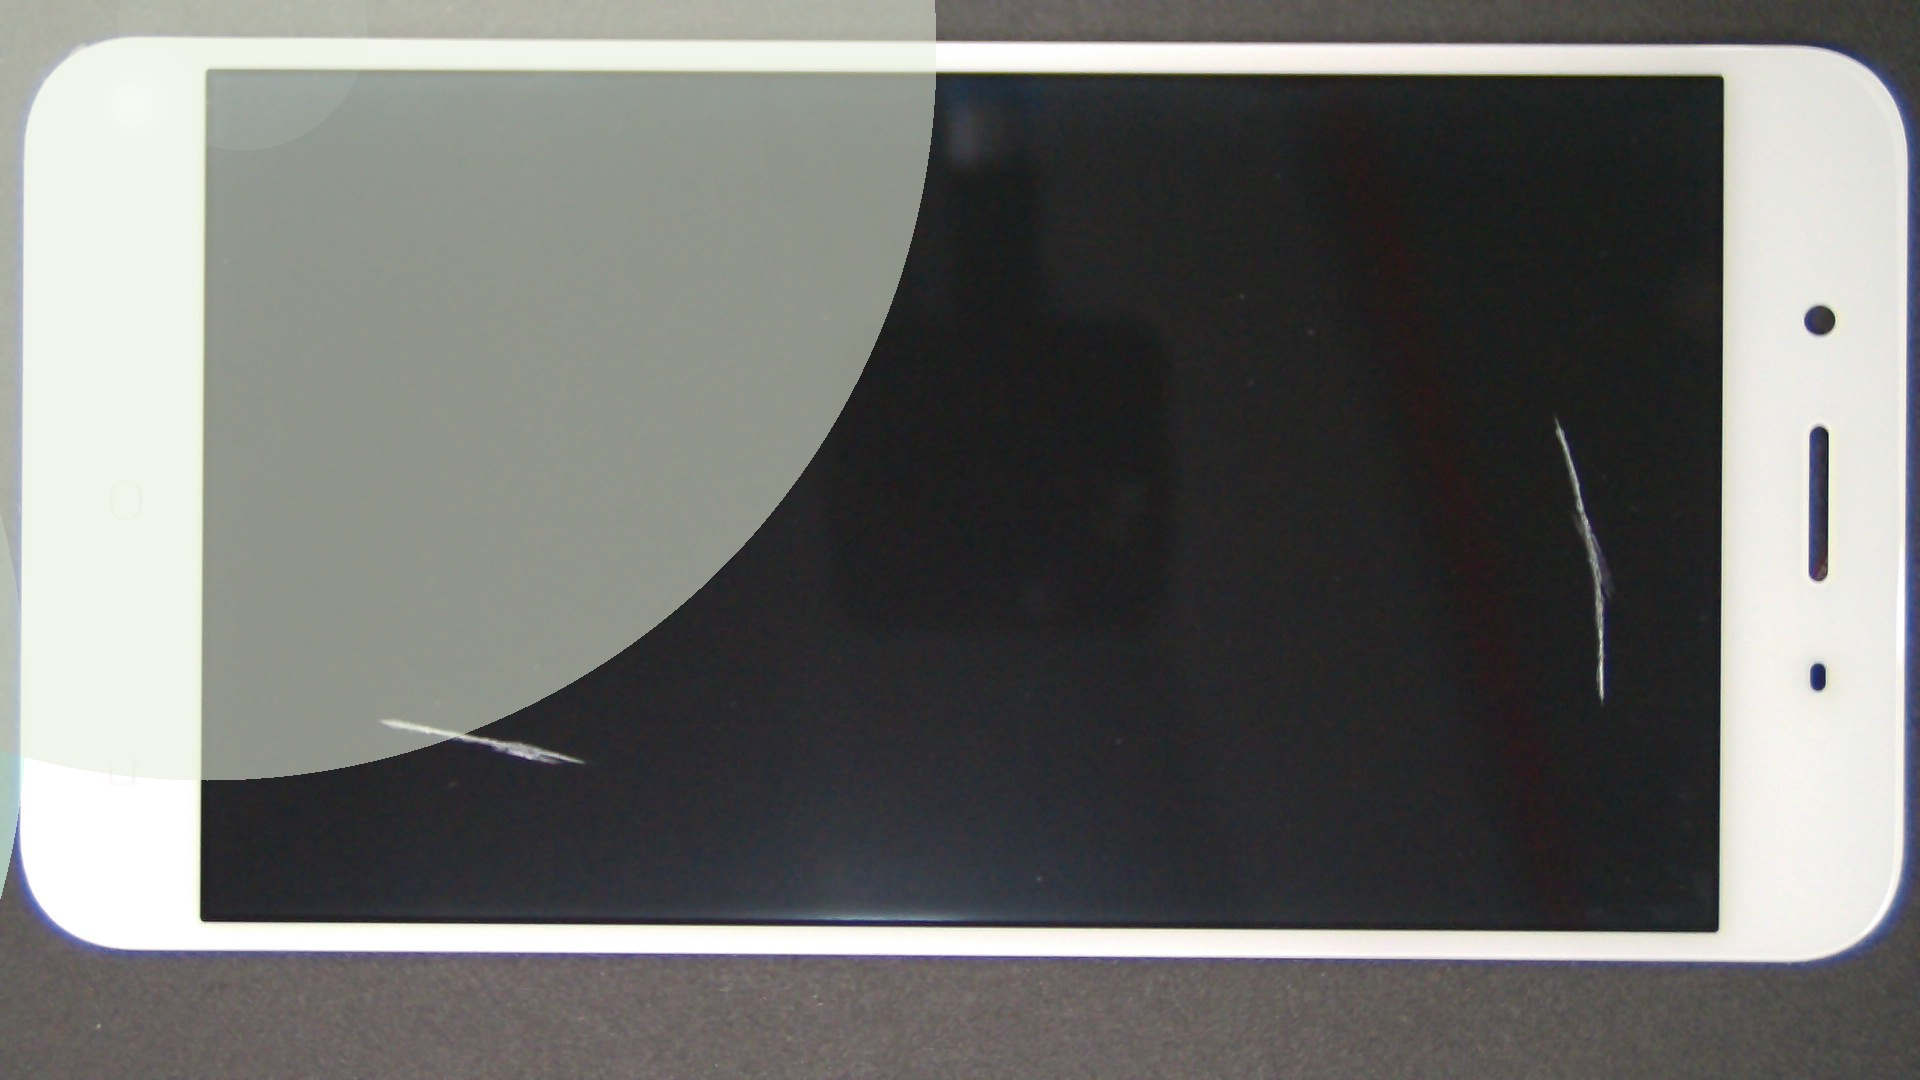oil: (777, 207, 1920, 624), (193, 357, 578, 1076)
